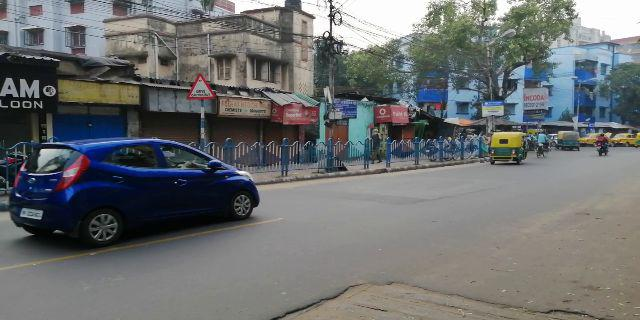Autorickshaw: (488, 130, 526, 166)
Car: (10, 143, 262, 243)
